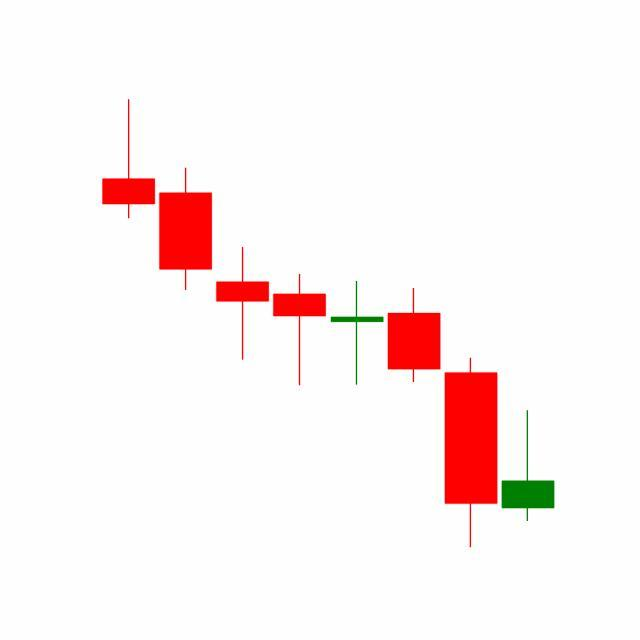Three Outside Up-Down: (328, 277, 500, 549)
